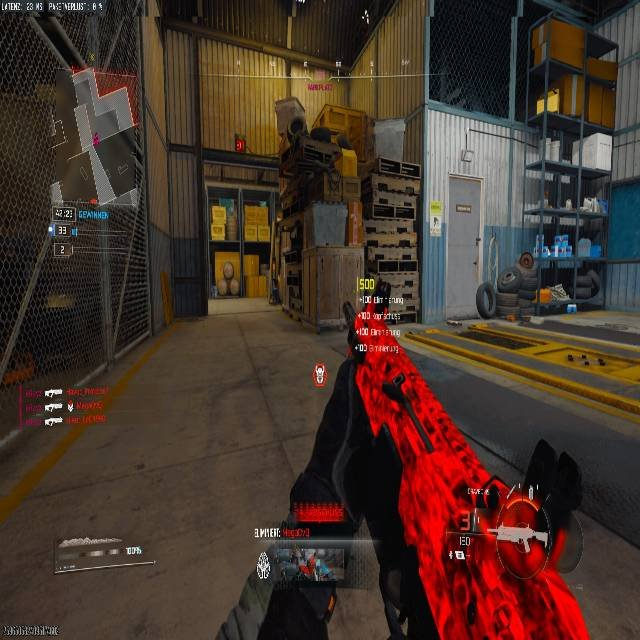head: (273, 97, 306, 139)
player: (273, 98, 348, 232)
